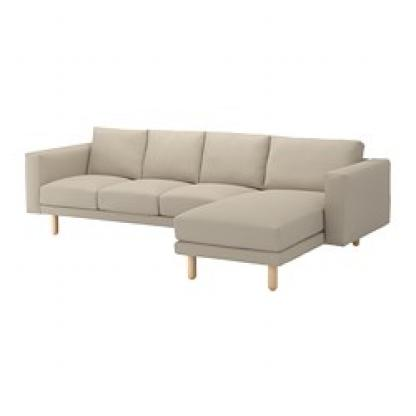Sofa: (20, 110, 394, 298)
